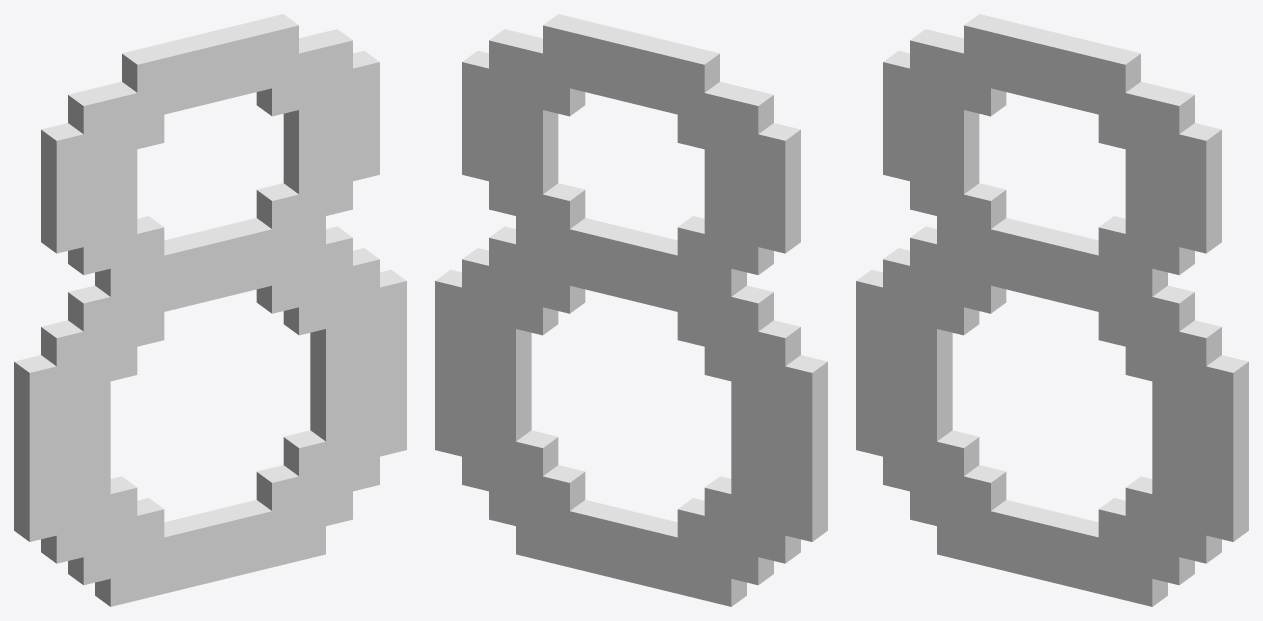
The picture shows the model from 3 angles, left to right: view 1: azimuth 30°, elevation 25°; view 2: azimuth 150°, elevation 25°; view 3: azimuth 330°, elevation 25°; orthographic projection.
Parts seen in each view (by area): view 1: box_72; view 2: box_72; view 3: box_72.
Boxes of the visible parts, x1,y1,x2,y2 form: box_72: (14,14,406,606); box_72: (435,14,827,606); box_72: (856,14,1248,606).
Bounding box in the file's own units: 1.4 × 1.9 × 0.1.
Materials: 1 (1 with a texture image).
